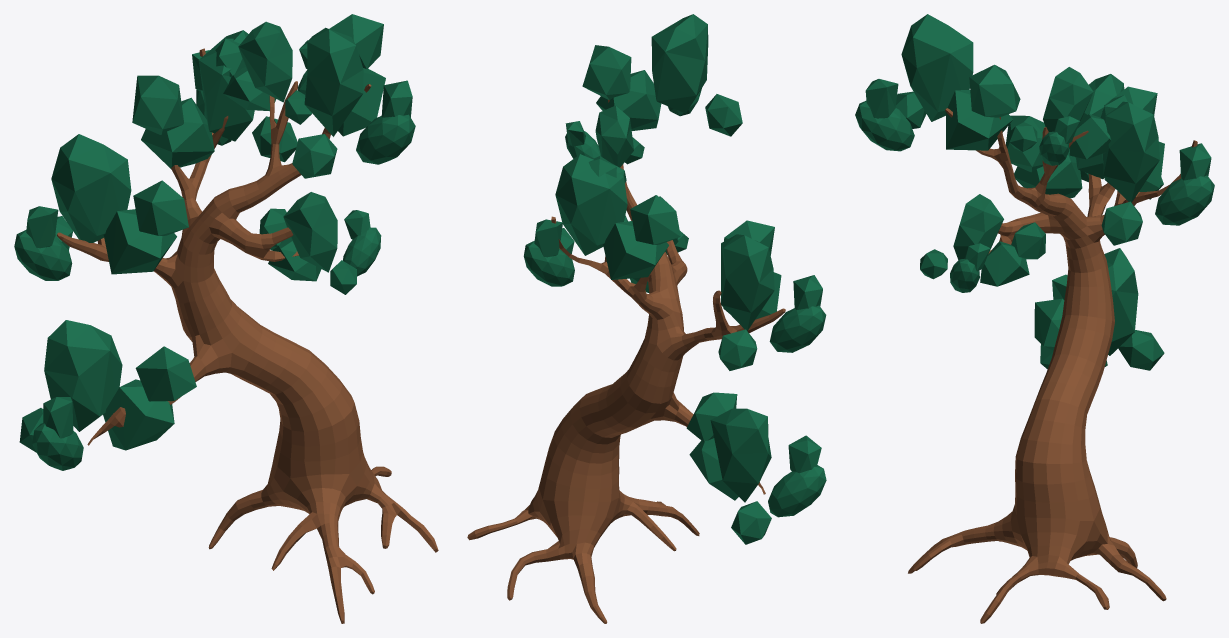
The model's file is Japan_tree_v02.fbx.
3 views of the same model, side by side, from view 1: azimuth 30°, elevation 25°; view 2: azimuth 150°, elevation 25°; view 3: azimuth 270°, elevation 25° (orthographic). The views are drawn at different scales.
Parts seen in each view (by area): view 1: Japan_tree_v02; view 2: Japan_tree_v02; view 3: Japan_tree_v02.
Boxes of the visible parts, <box> form: Japan_tree_v02: <box>14,14,438,623</box>; Japan_tree_v02: <box>467,14,826,623</box>; Japan_tree_v02: <box>855,14,1214,623</box>.
Bounding box in the file's own units: 71.9 × 106 × 61.2.
Materials: 1 (1 with a texture image).
